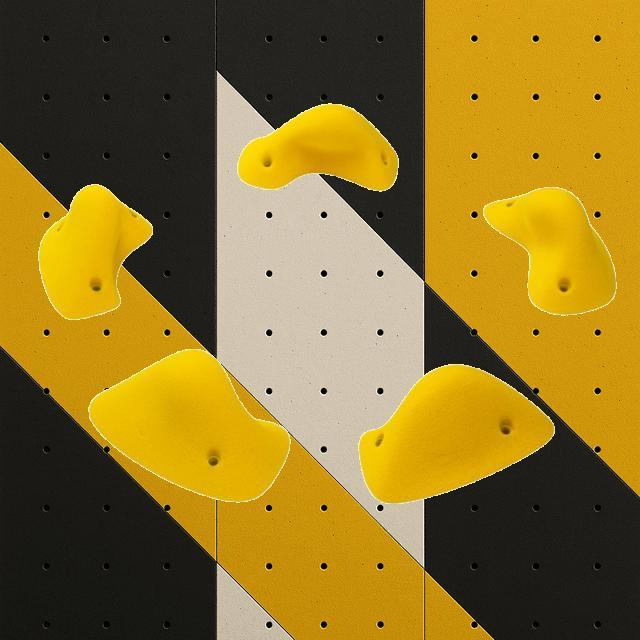Jug: (88, 348, 290, 502), (358, 364, 554, 504), (482, 186, 616, 314), (38, 184, 152, 320), (238, 103, 398, 191)
